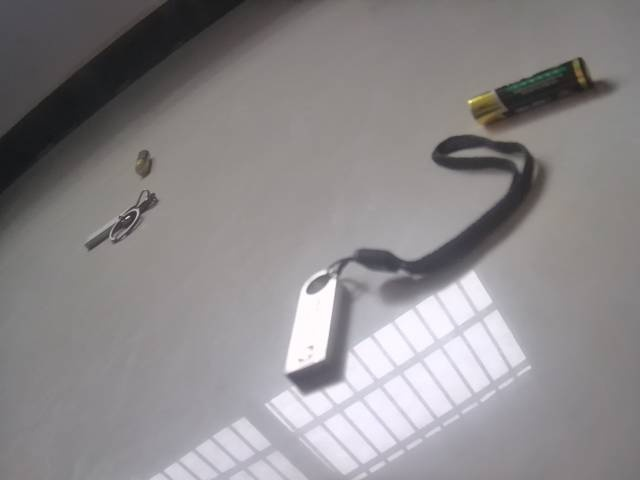U-disk: (285, 233, 473, 392), (81, 187, 165, 260)
battery: (456, 55, 603, 126), (131, 144, 157, 178)
